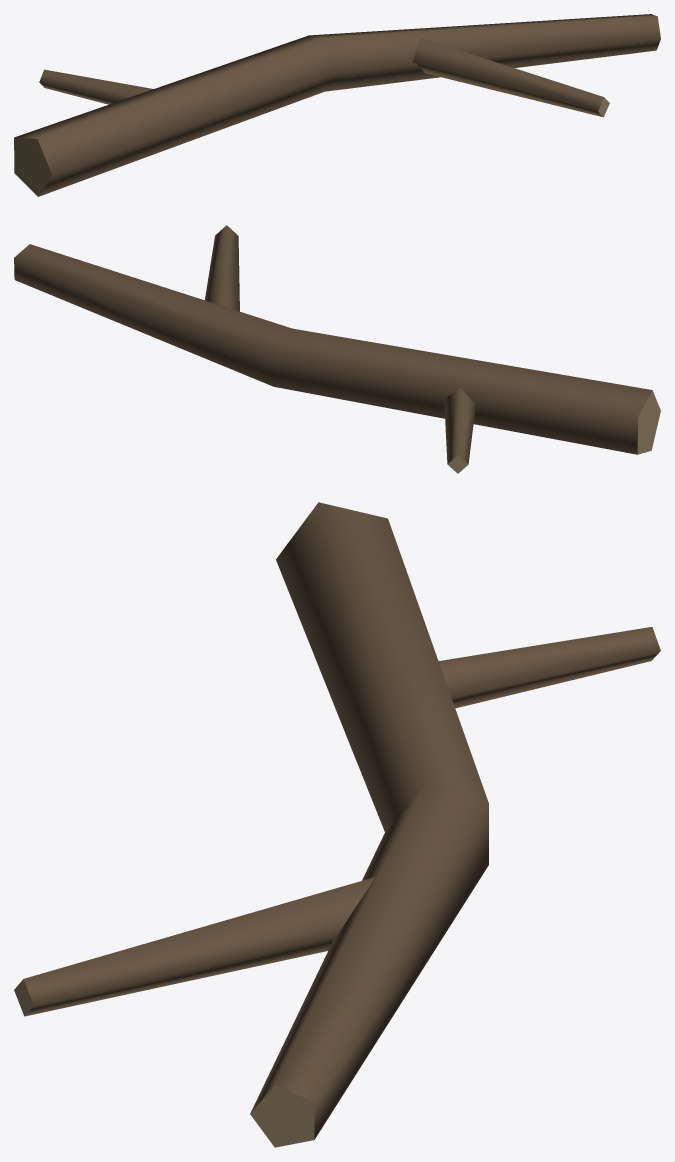
The picture shows the model from 3 angles, top to bottom: view 1: azimuth 30°, elevation 25°; view 2: azimuth 150°, elevation 25°; view 3: azimuth 270°, elevation 25°; orthographic projection. The views are drawn at different scales.
Visible parts, largest first — view 1: meadow-stick-b; view 2: meadow-stick-b; view 3: meadow-stick-b.
Part boxes in pixels (x1,y1,x2,y2): meadow-stick-b: [14, 14, 660, 196]; meadow-stick-b: [14, 225, 660, 473]; meadow-stick-b: [14, 502, 660, 1147].
Bounding box in the file's own units: 1.27 × 0.1194 × 0.6183.
